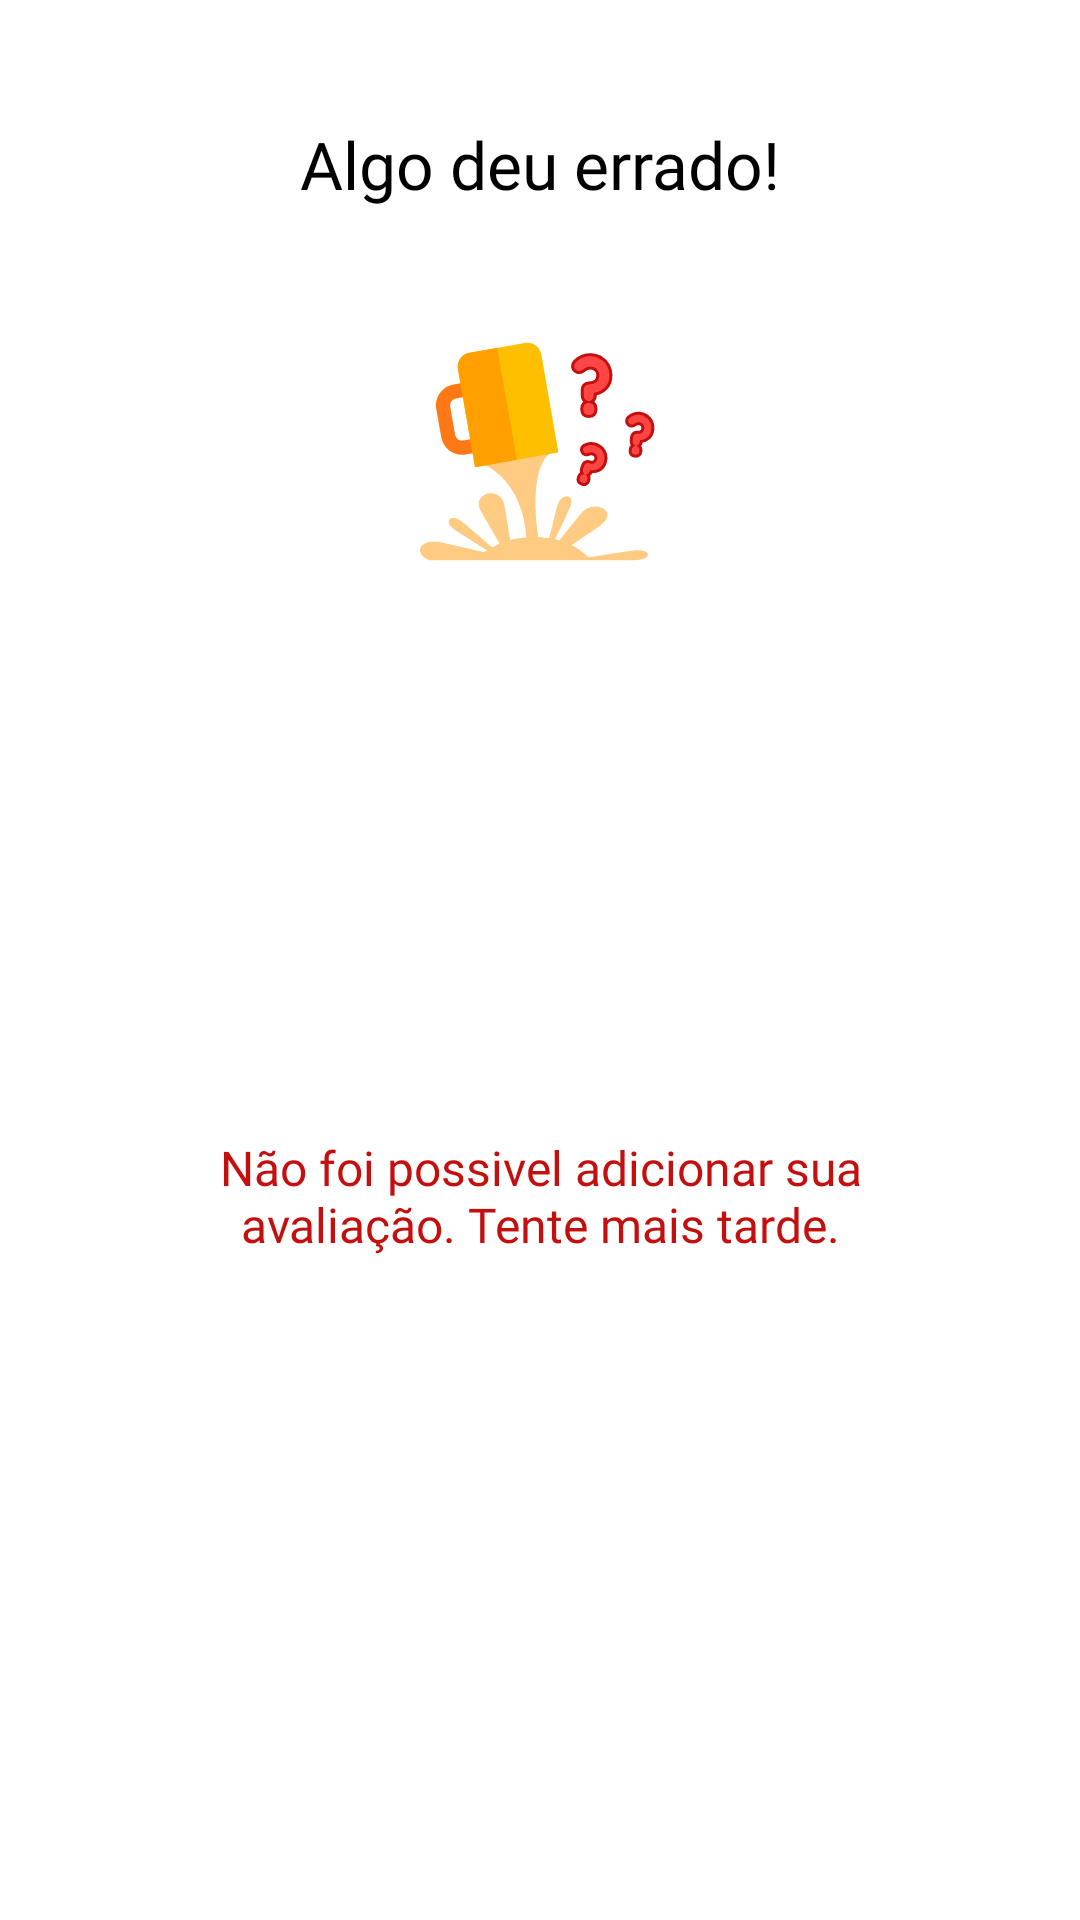

Icon click points for this 1080x1920 phone screenshot, format (x=x, y=y):
rating error: (x=537, y=451)
